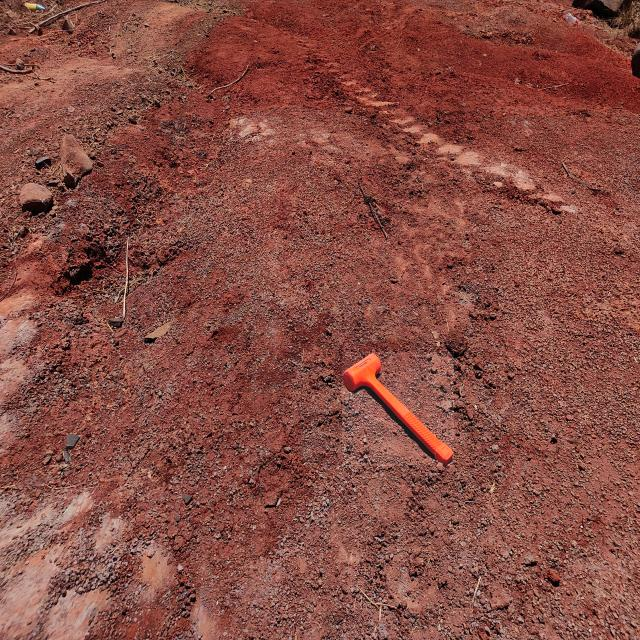Orange_hammer: (342, 352, 454, 466)
